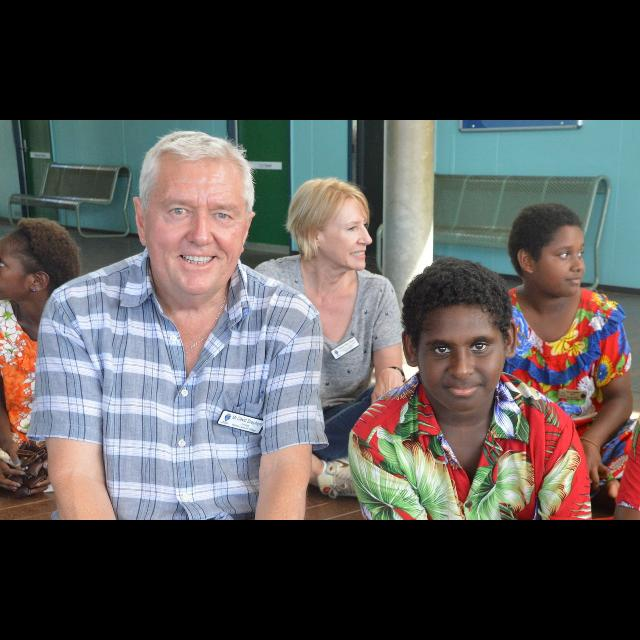head: (134, 133, 256, 297), (402, 264, 518, 414), (508, 202, 586, 300), (295, 178, 375, 272), (0, 218, 72, 302)
person: (204, 169, 446, 501), (0, 212, 132, 504)
